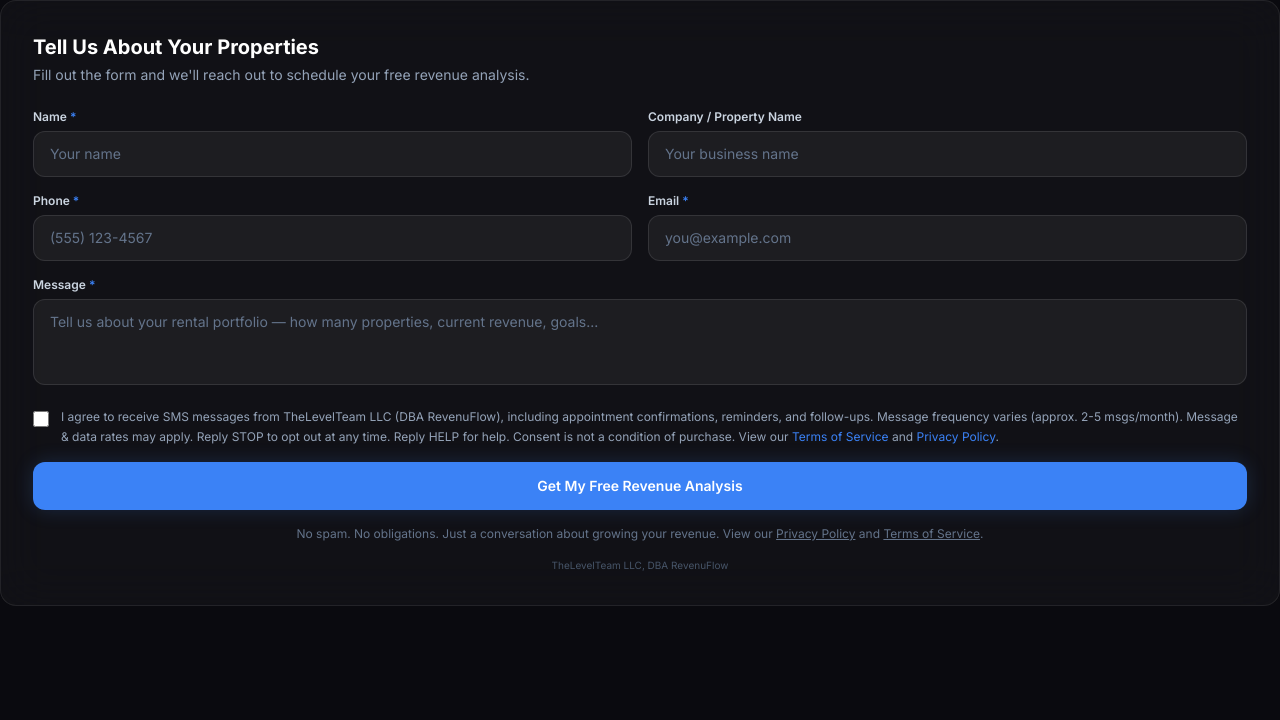
Scenario: ContactForm › submission › shows error banner when API returns failure
Type "Test User" into the field labelled "Name *" at (332,154), box [33,131,632,177]
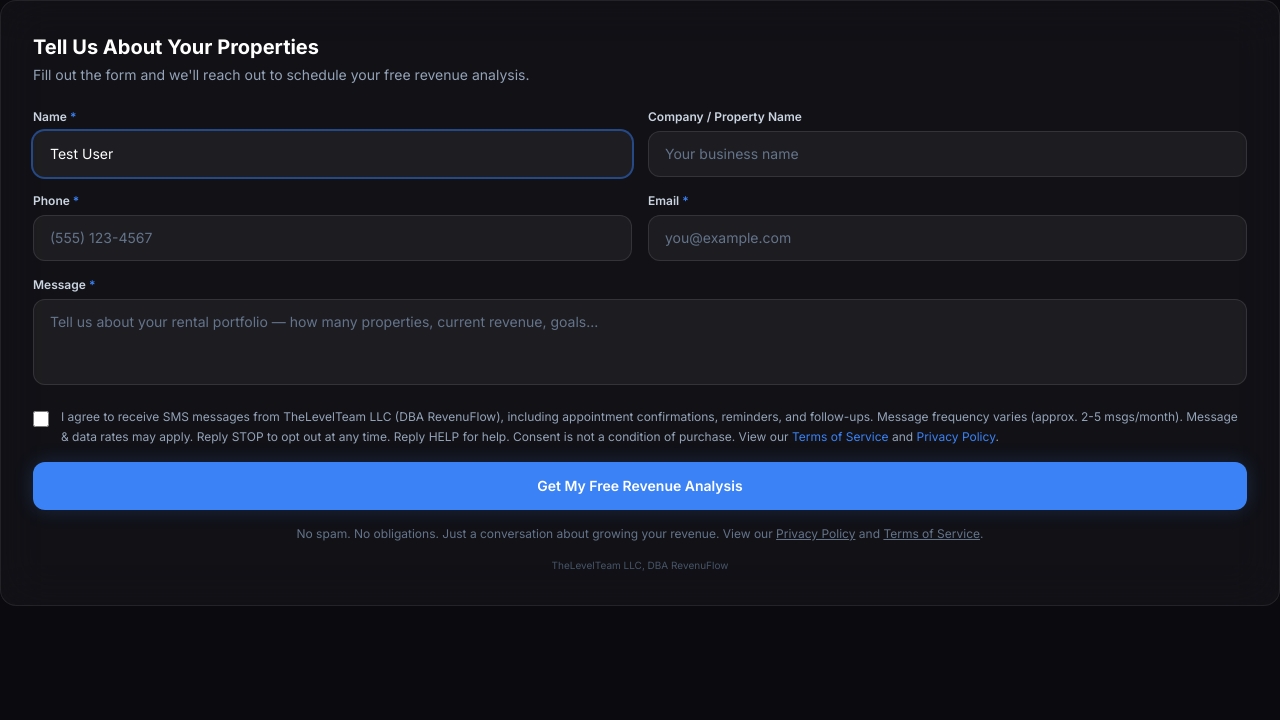
Type "555-1234" into the field labelled "Phone *" at (332,238), box [33,215,632,261]
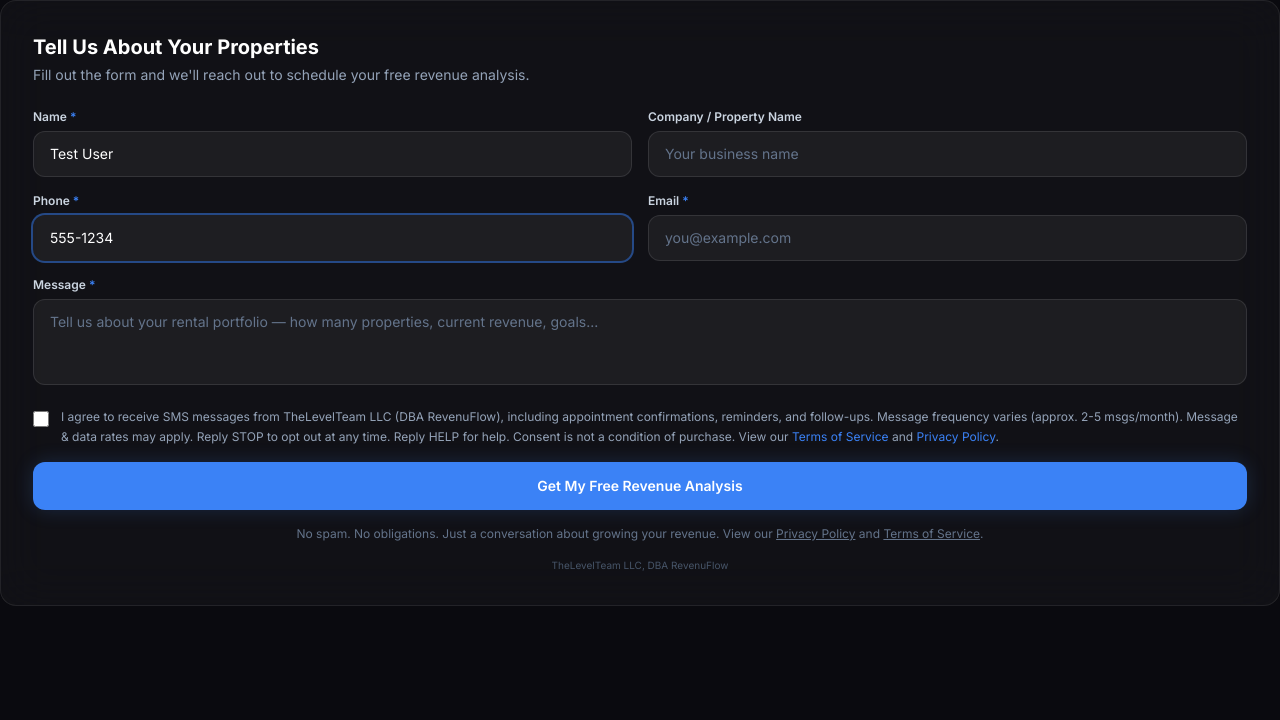
Type "test@test.com" into the field labelled "Email *" at (948,238), box [648,215,1247,261]
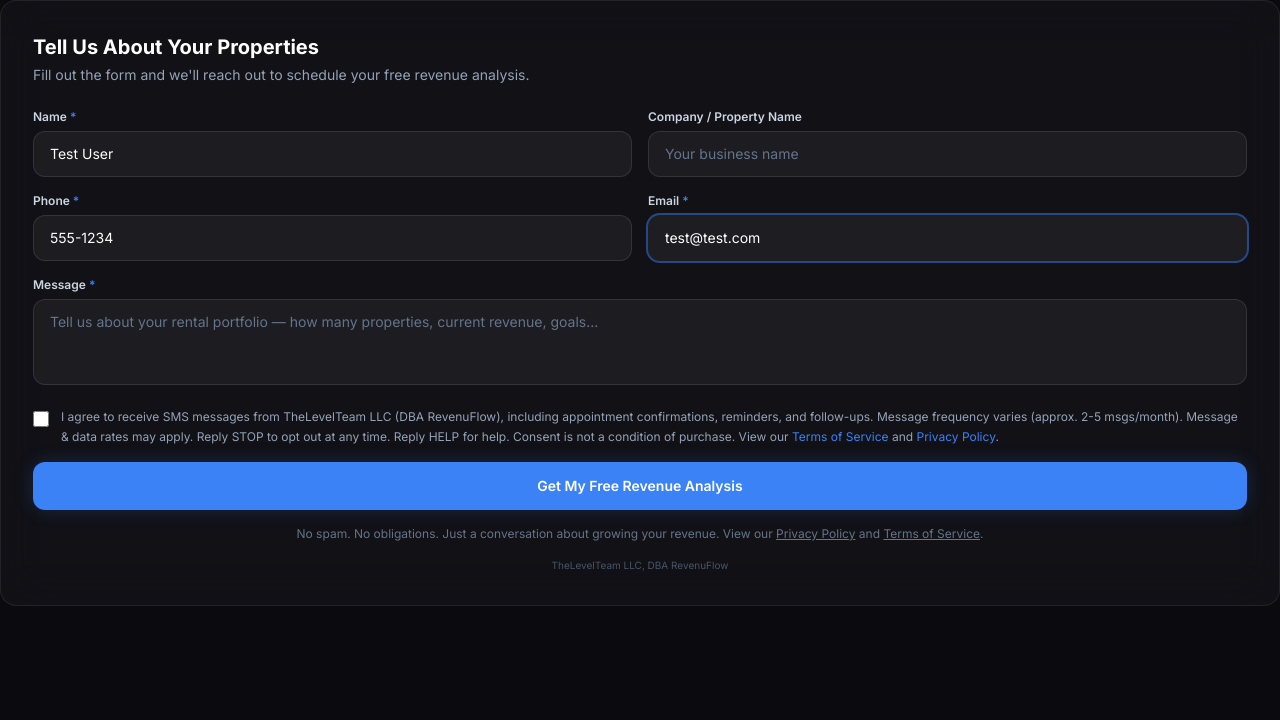
Type "Test message" into the text box labelled "Message *" at (640,342), box [33,299,1247,385]
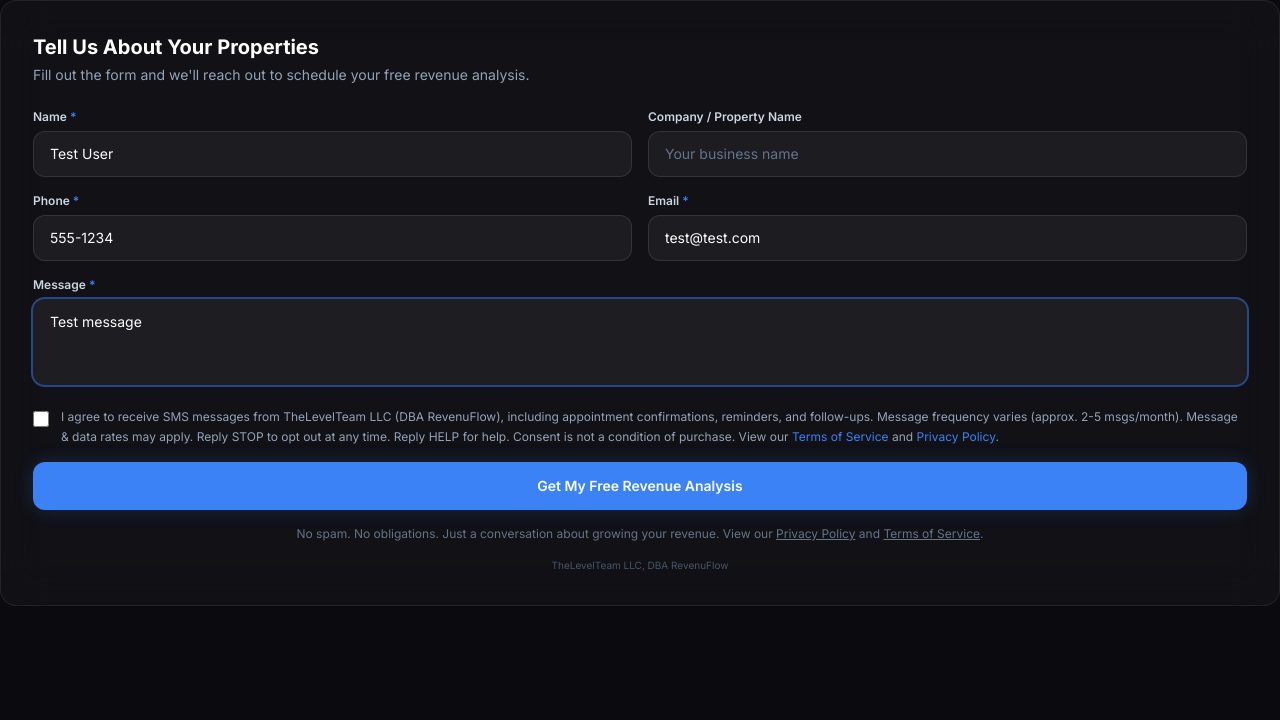
Click the button "Get My Free Revenue Analysis" at (640,486), box [33,462,1247,510]
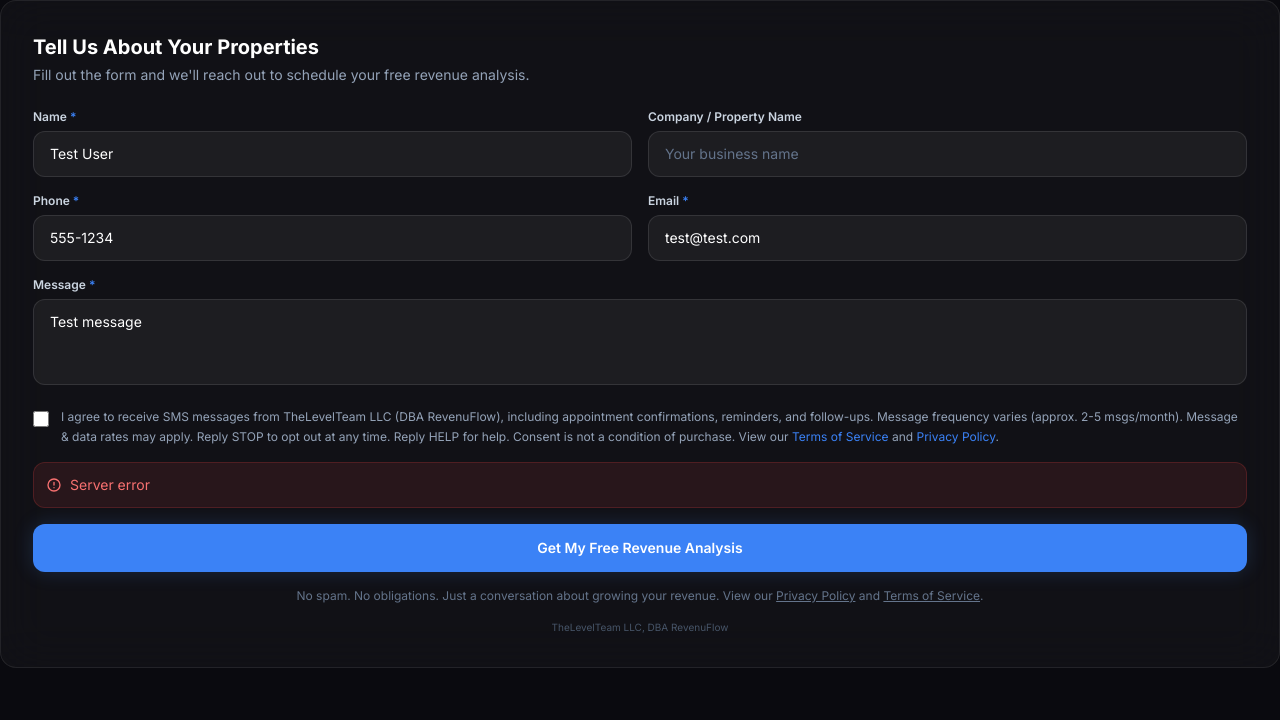
Result: the text "Server error" is shown at [33,462,1247,508]
